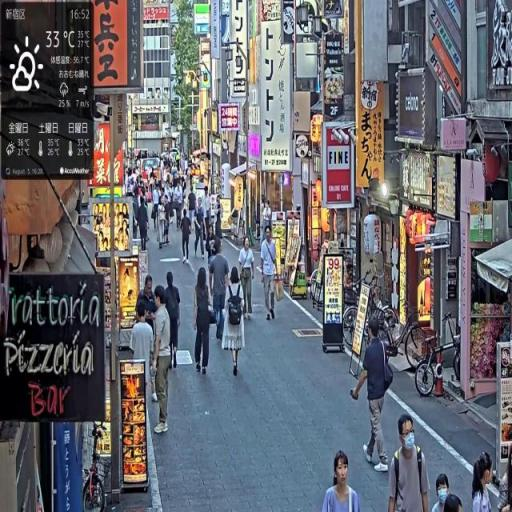person: (351, 318, 396, 475), (389, 412, 432, 512), (152, 288, 174, 436), (323, 450, 364, 512), (224, 267, 247, 377), (209, 240, 231, 349), (194, 266, 214, 378), (261, 228, 280, 321), (165, 274, 183, 368), (239, 235, 256, 322), (472, 454, 497, 512), (195, 197, 208, 260), (138, 198, 151, 254), (180, 208, 193, 264)
